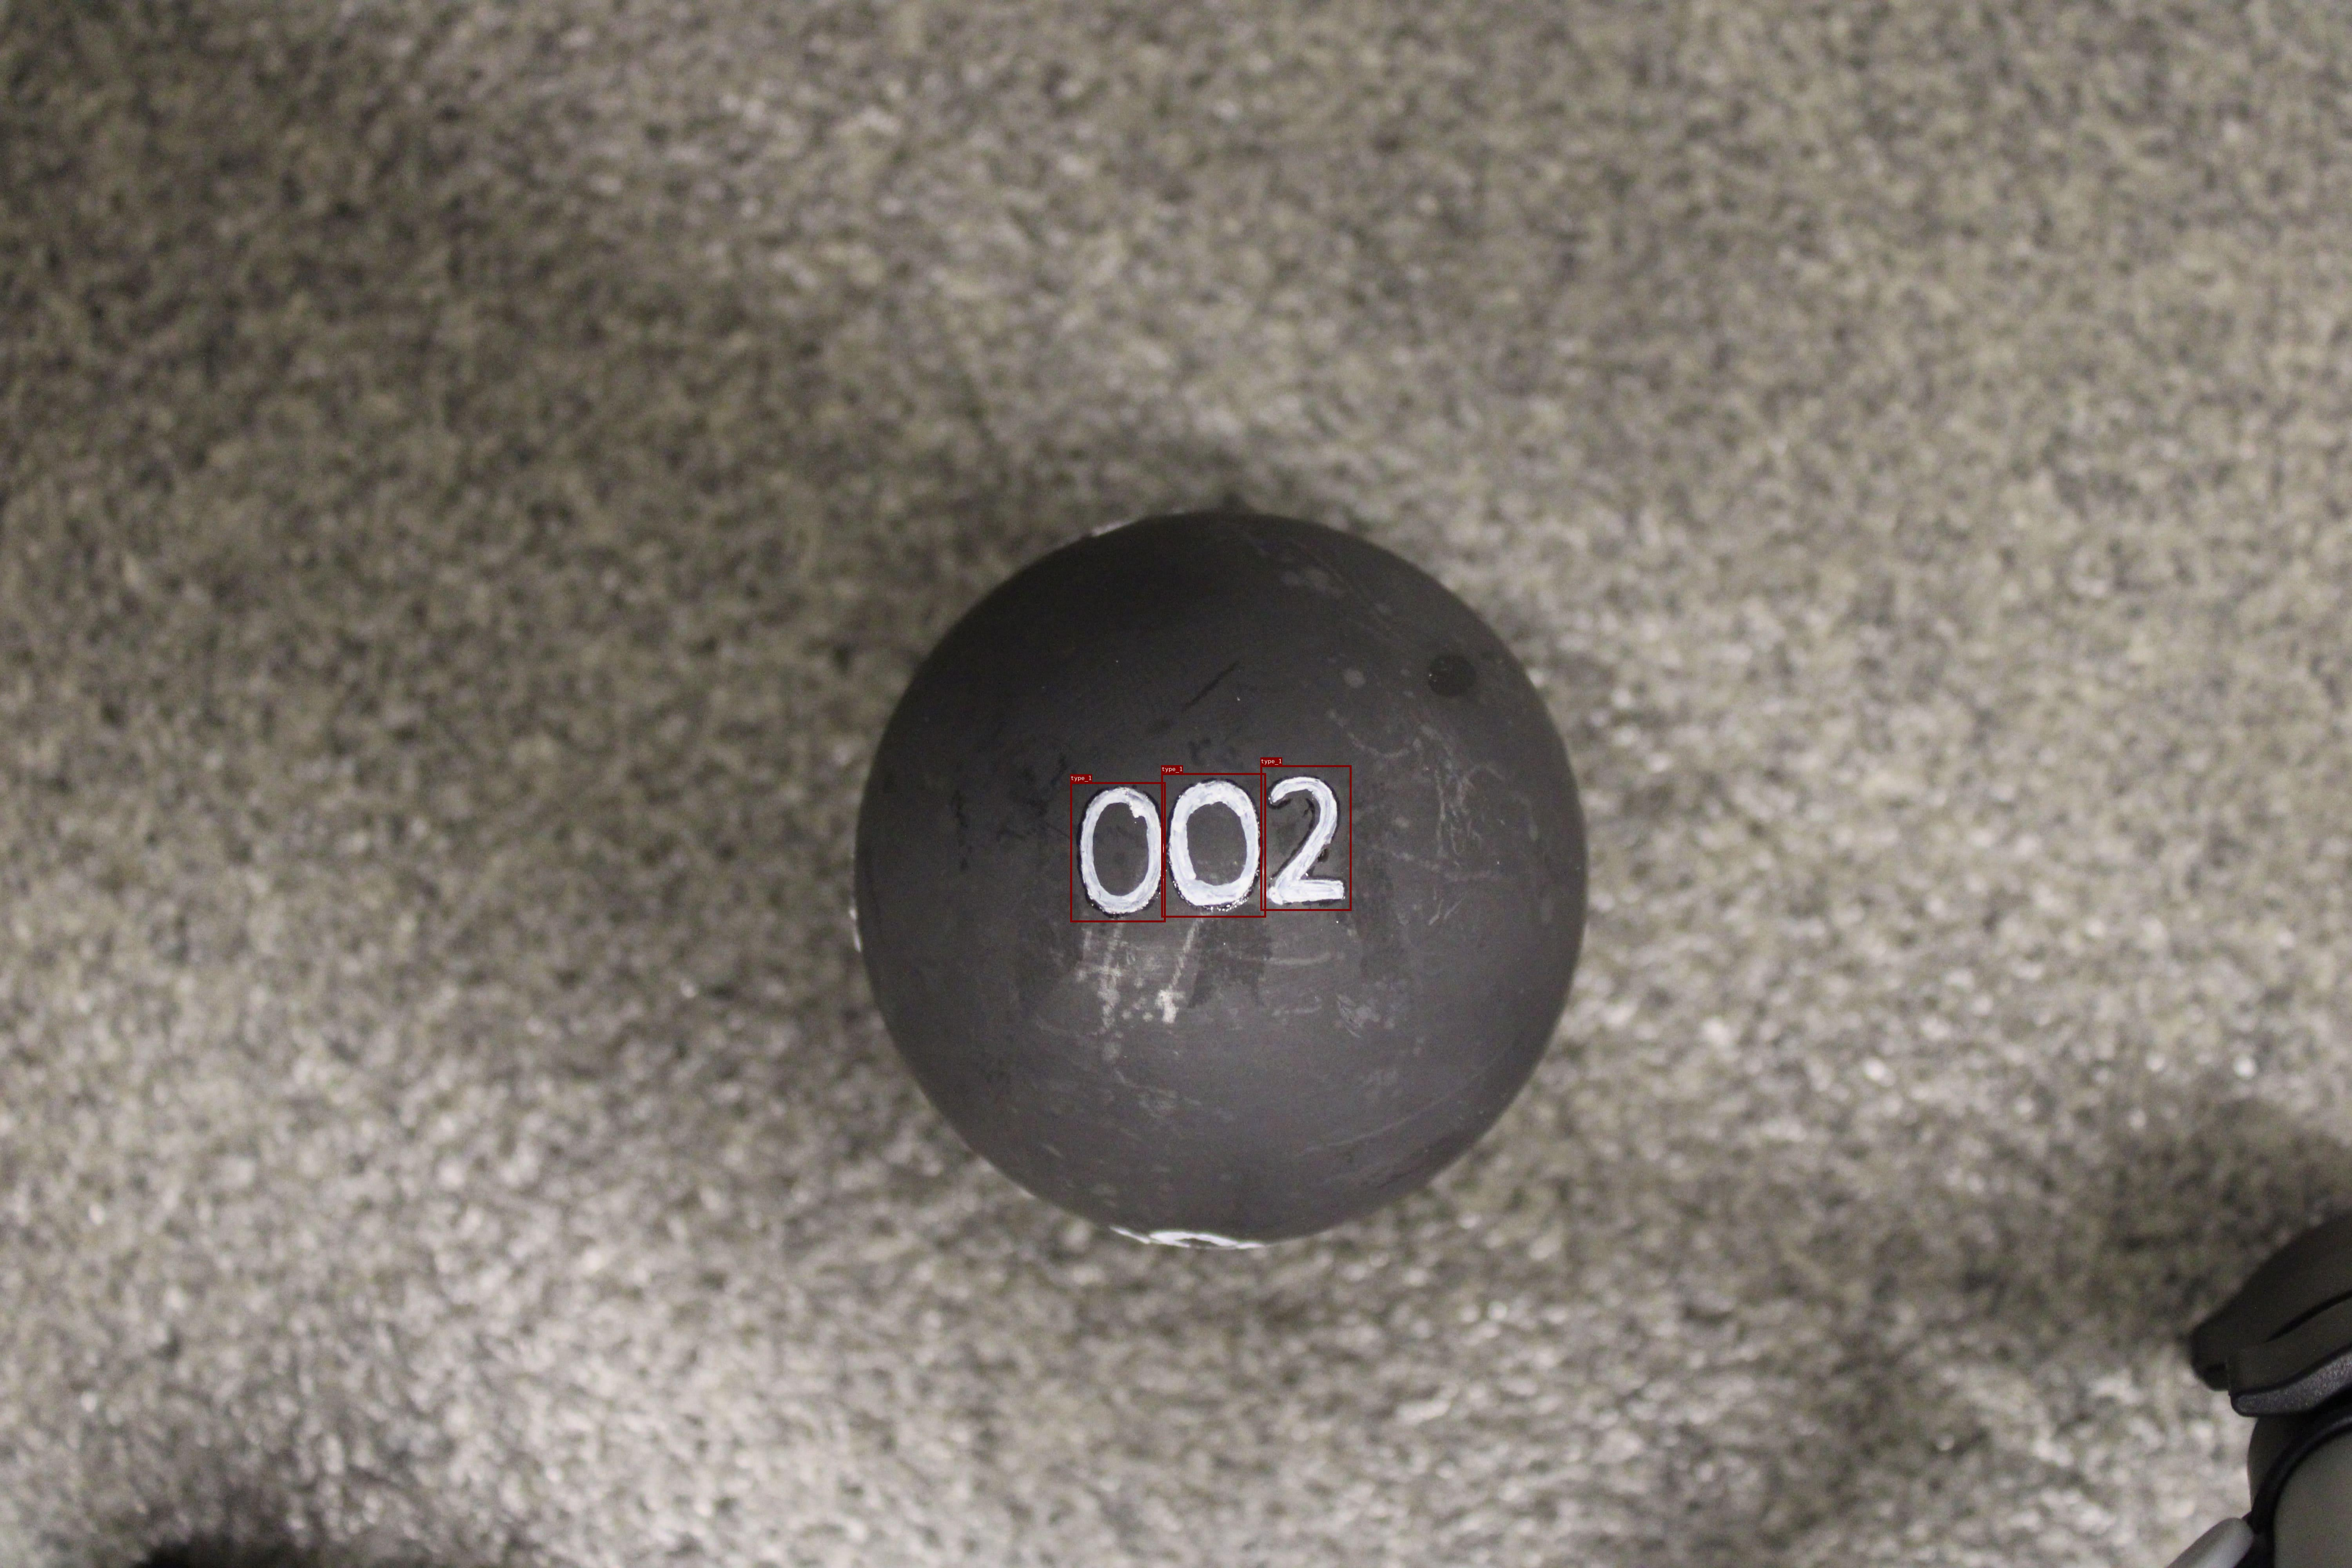type_1: (1160, 773, 1265, 917), (1071, 782, 1165, 922), (1260, 765, 1351, 910)
